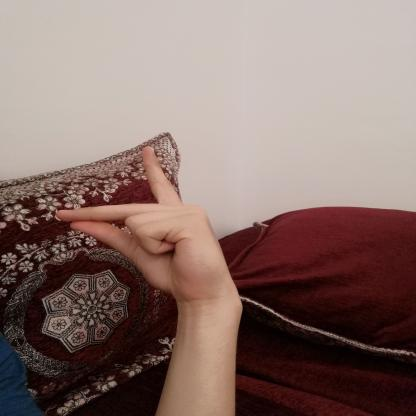TAA: (40, 137, 243, 305)
